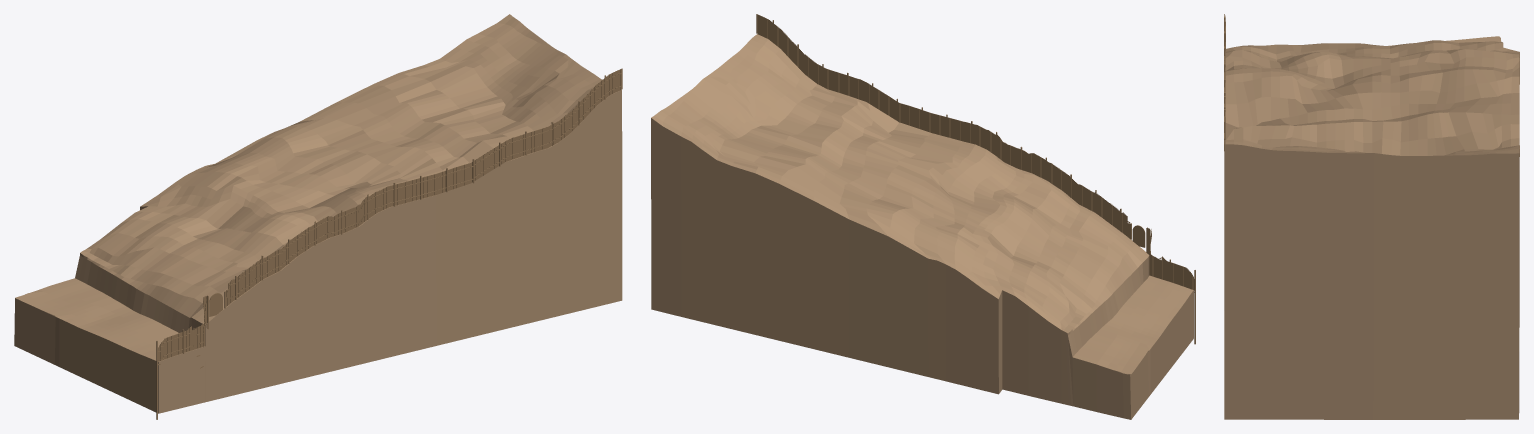
File: neighbour_left.glb
The picture shows the model from 3 angles, left to right: view 1: azimuth 30°, elevation 25°; view 2: azimuth 150°, elevation 25°; view 3: azimuth 270°, elevation 25°; orthographic projection. The views are drawn at different scales.
Parts seen in each view (by area): view 1: Terrain 01 - NGL.003 (Neighbour-Left copy), Wooden Fence; view 2: Terrain 01 - NGL.003 (Neighbour-Left copy), Wooden Fence; view 3: Terrain 01 - NGL.003 (Neighbour-Left copy).
Boxes of the visible parts, box(x1,y1,x2,y2) form: Terrain 01 - NGL.003 (Neighbour-Left copy): box(14, 14, 622, 413); Wooden Fence: box(156, 68, 622, 419); Terrain 01 - NGL.003 (Neighbour-Left copy): box(651, 34, 1193, 419); Wooden Fence: box(756, 14, 1195, 344); Terrain 01 - NGL.003 (Neighbour-Left copy): box(1224, 36, 1519, 419).
Bounding box in the file's own units: 45.8 × 20.64 × 17.85.
